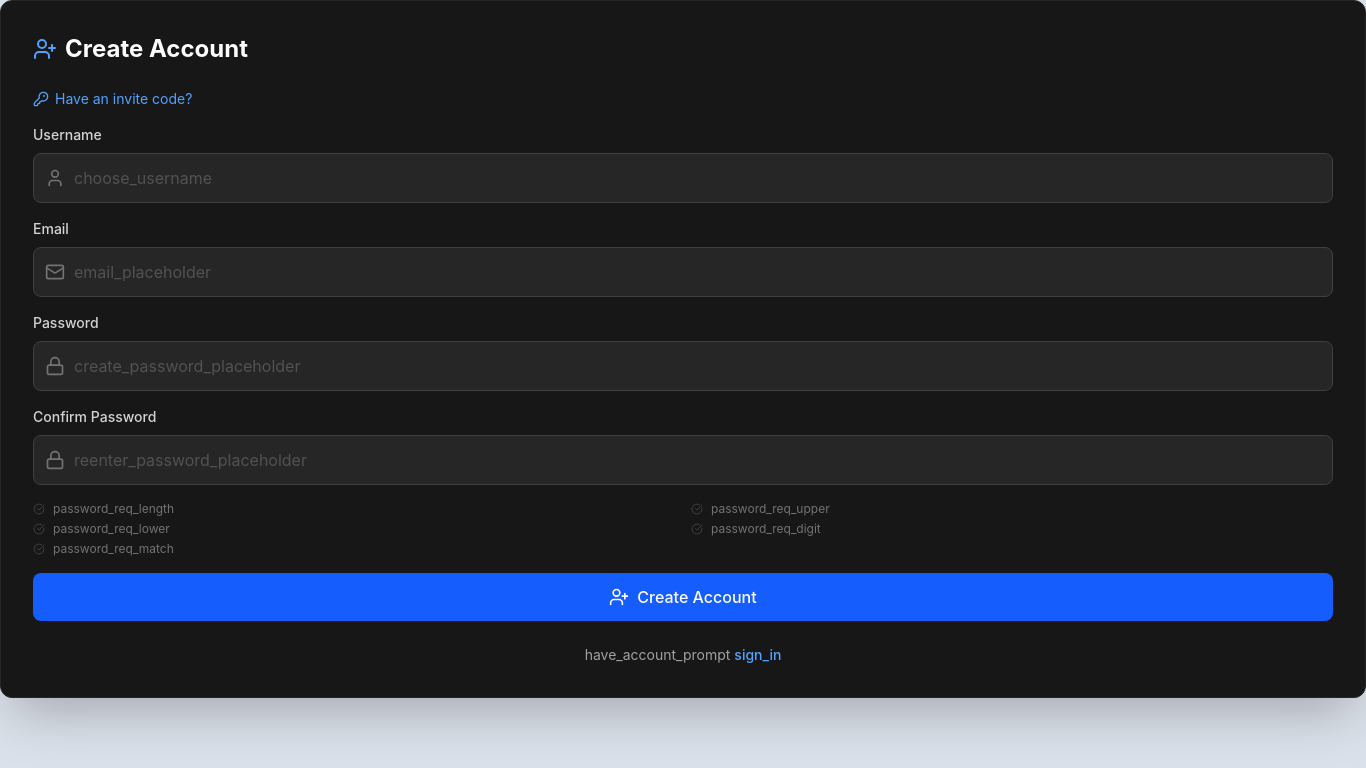
Test: RegisterPage invite code › is reachable in open mode, behind a prompt rather than in your face
Expected: the field with placeholder "invite_code_placeholder" is not shown
Click the button "Have an invite code?": (113, 99) [33, 89, 192, 109]
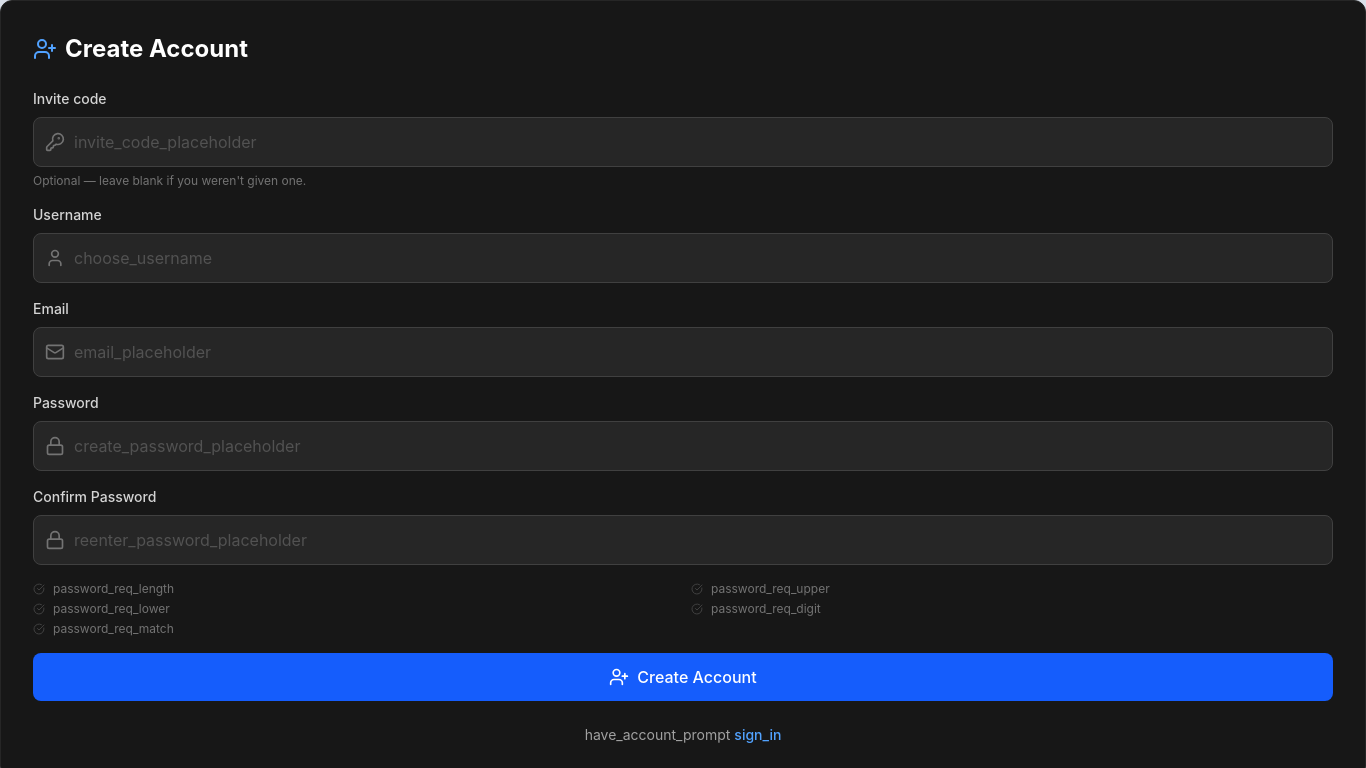
Now the field with placeholder "invite_code_placeholder" is shown, box [33, 117, 1333, 167]
Now the text "Optional — leave blank if you weren't given one." is shown, box [33, 173, 306, 188]
